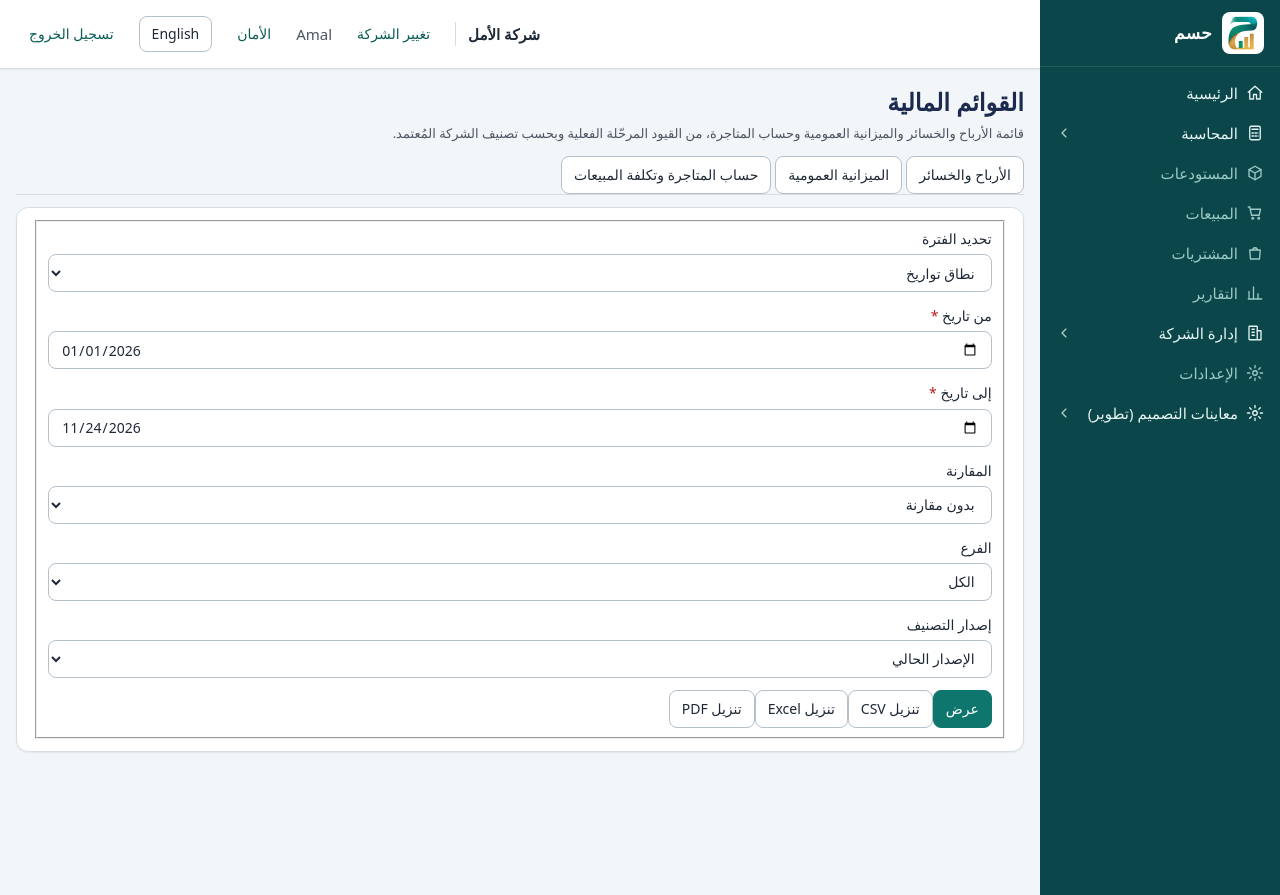
financial statements screen › uses an as-of date for the balance sheet and shows the derived unclosed result as its own line
Expected: the element with test id "company-name" is shown, [455,22,540,46]
Click the tab "الميزانية العمومية": (839, 175) [775,156,902,194]
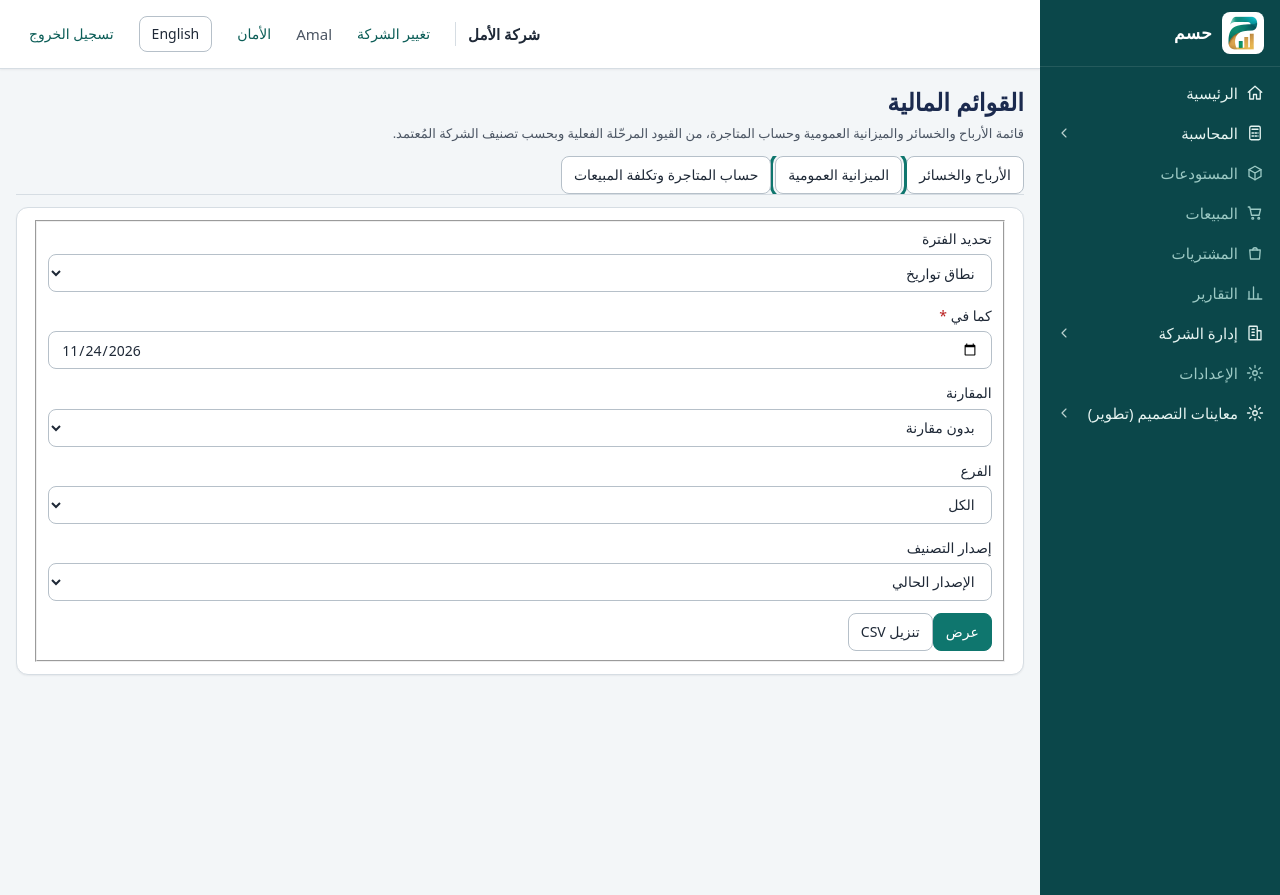
Expected: the date field labelled "كما في *" is shown, [48,332,992,370]
Click the button "عرض": (962, 632) [933,613,992,651]
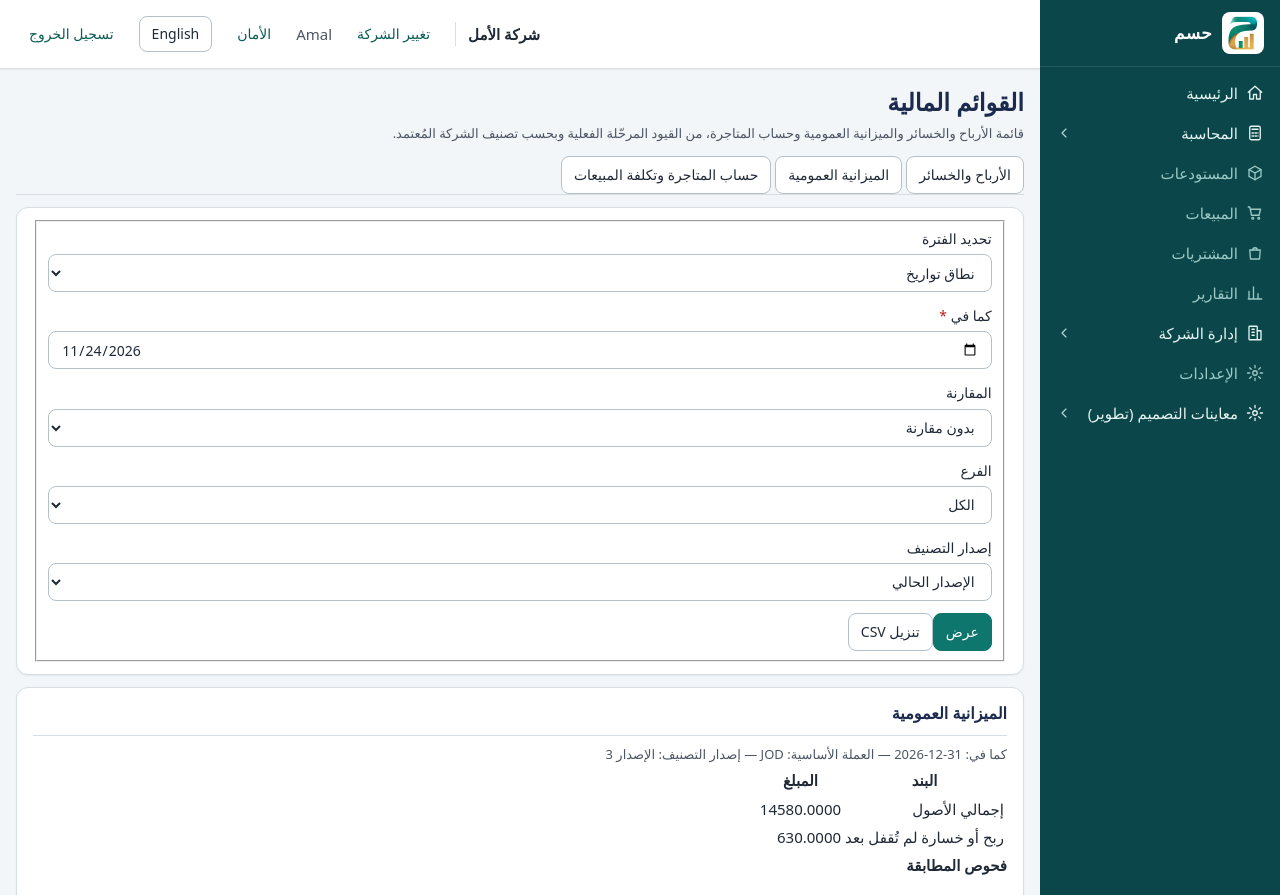
Result: the row with test id "st-line-unclosed_result" shows "630.0000" at [777,828,841,848]
Result: the row with test id "st-line-total_assets" shows "14580.0000" at [760,799,841,819]
